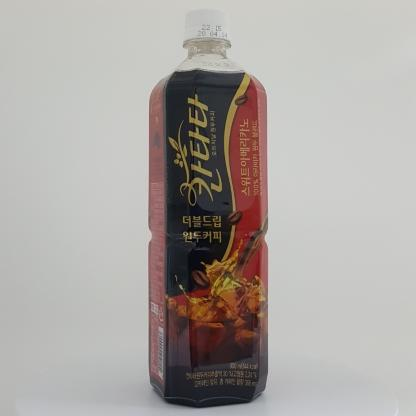-----------900ML: (148, 8, 268, 408)
